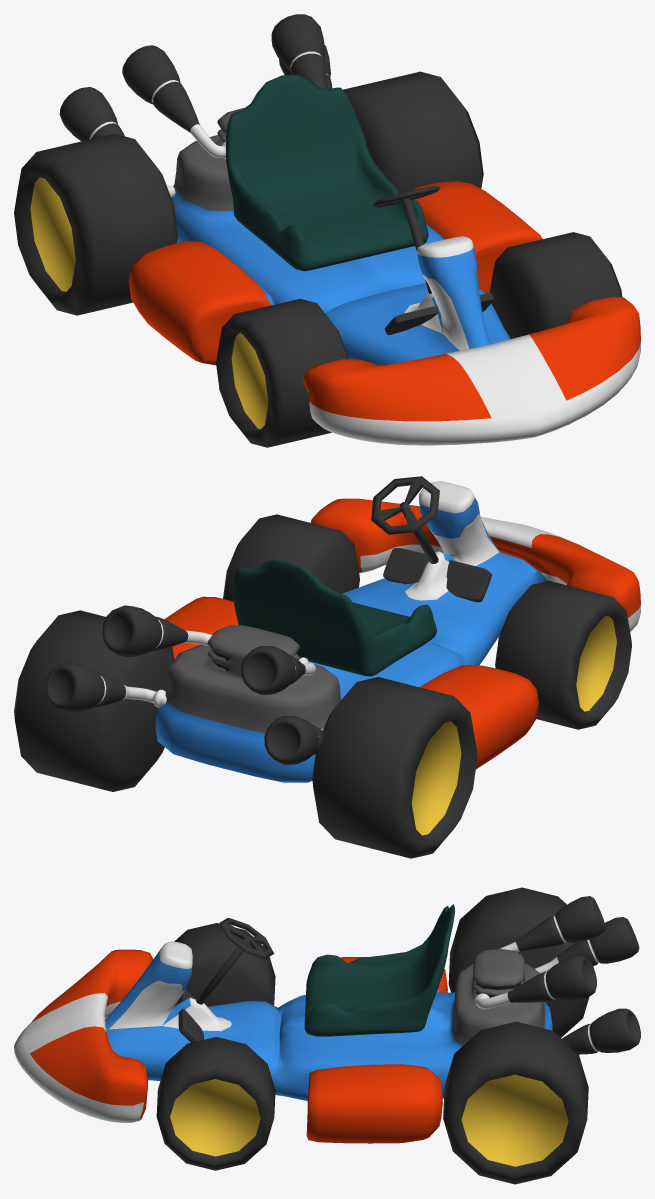
Rendered from kart.fbx.
3 views of the same model, one above another, from view 1: azimuth 30°, elevation 25°; view 2: azimuth 150°, elevation 25°; view 3: azimuth 270°, elevation 25° (orthographic). The views are drawn at different scales.
Visible parts, largest first — view 1: Cart, BackRight, FrontRIght, BackLeft, FrontLeft, Steering; view 2: Cart, BackRight, BackLeft, FrontRIght, FrontLeft, Steering; view 3: Cart, BackLeft, FrontLeft, BackRight, FrontRIght, Steering.
Part boxes in pixels (bbox=[...]): Cart: bbox=[59, 14, 640, 445]; BackRight: bbox=[14, 133, 177, 315]; FrontRIght: bbox=[216, 298, 348, 447]; BackLeft: bbox=[343, 71, 483, 193]; FrontLeft: bbox=[489, 232, 622, 338]; Steering: bbox=[372, 185, 440, 293]; Cart: bbox=[45, 481, 640, 782]; BackRight: bbox=[312, 677, 477, 858]; BackLeft: bbox=[14, 610, 174, 791]; FrontRIght: bbox=[495, 581, 631, 729]; FrontLeft: bbox=[223, 514, 359, 601]; Steering: bbox=[371, 476, 439, 563]; Cart: bbox=[14, 896, 640, 1143]; BackLeft: bbox=[443, 1021, 588, 1184]; FrontLeft: bbox=[156, 1037, 275, 1170]; BackRight: bbox=[448, 887, 593, 1037]; FrontRIght: bbox=[174, 923, 275, 1006]; Steering: bbox=[196, 918, 274, 1004].
Size of the model in its own units: 224 by 121 by 351.
